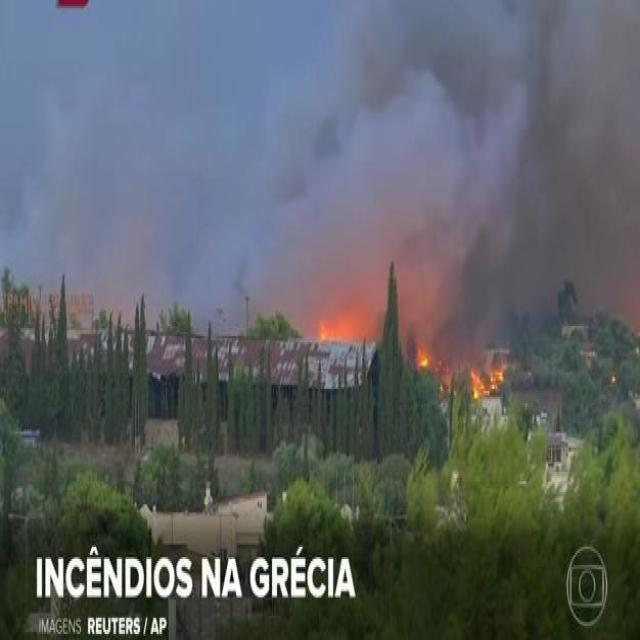Fire: (314, 314, 372, 346), (469, 362, 509, 398), (414, 336, 432, 376)
Smoke: (289, 24, 633, 304)
